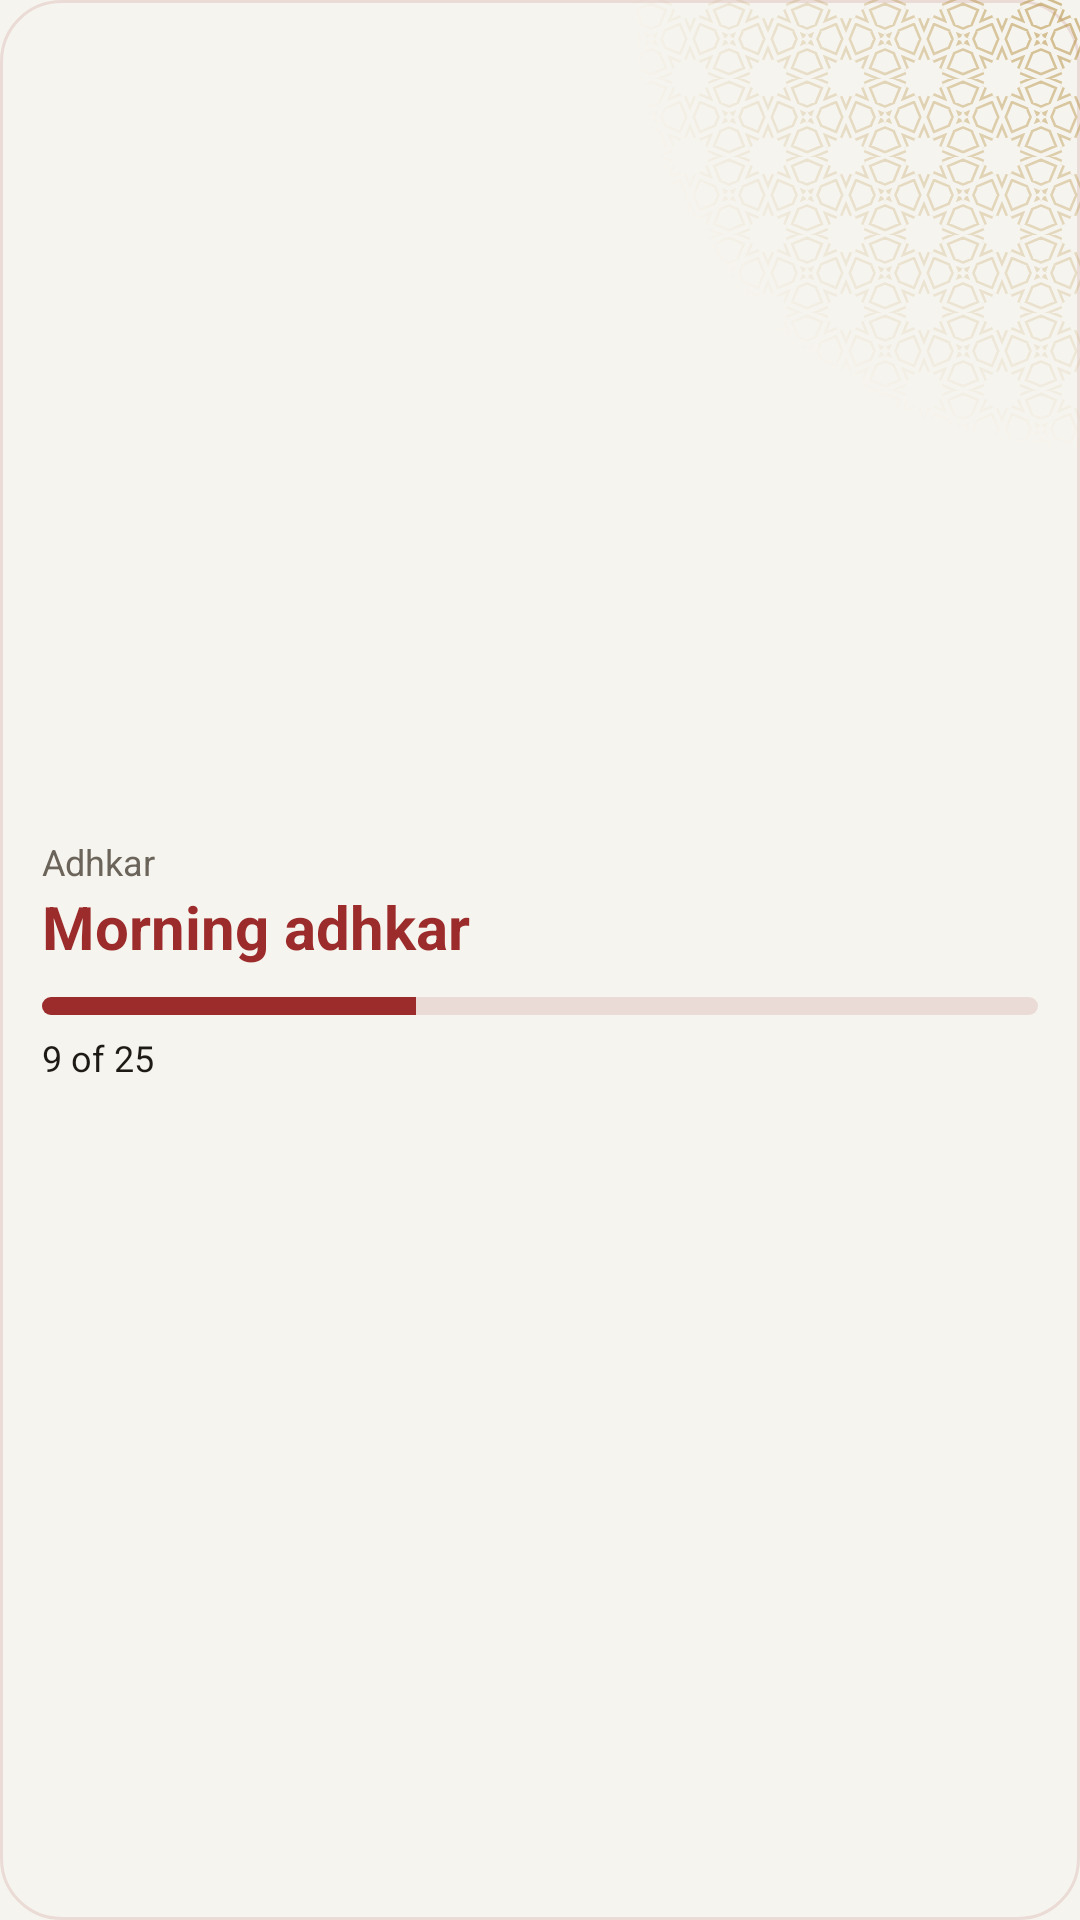

Where to tap for icons on this 1080w x 1920h app screen, as point (x, y):
widget orn band: point (908, 171)
